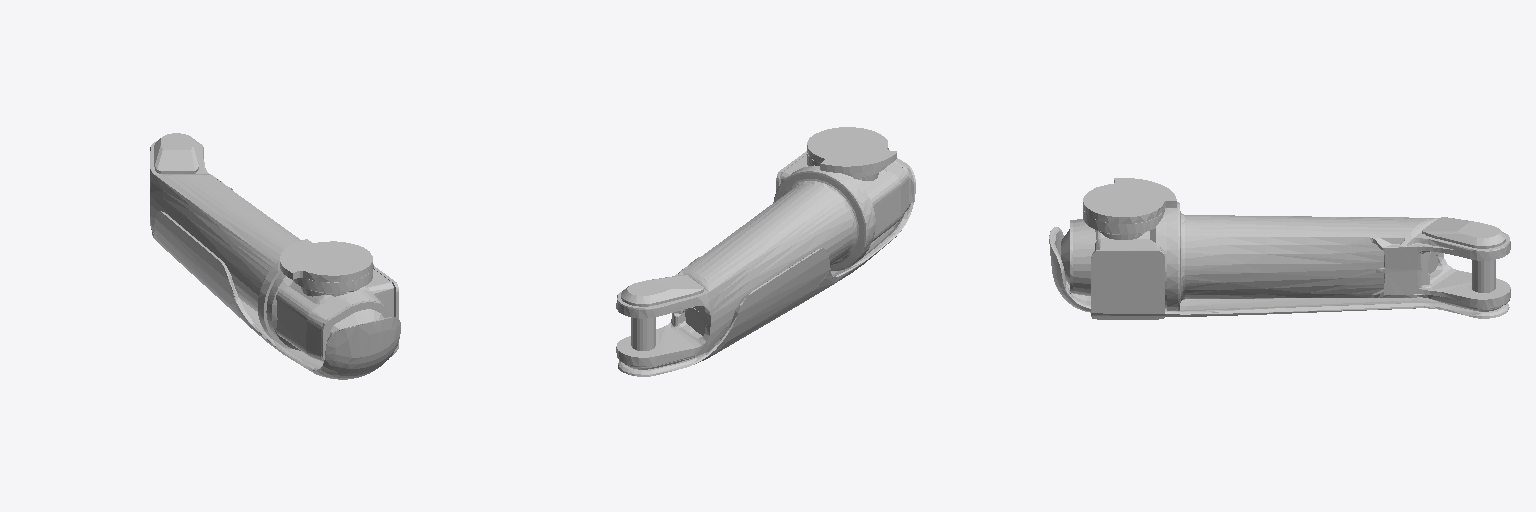
Rendered from hr_uleg_visuals_mesh_0.obj.
3 views of the same model, side by side, from view 1: azimuth 30°, elevation 25°; view 2: azimuth 150°, elevation 25°; view 3: azimuth 270°, elevation 25° (orthographic).
Size of the model in its own units: 0.101 by 0.108 by 0.4112.